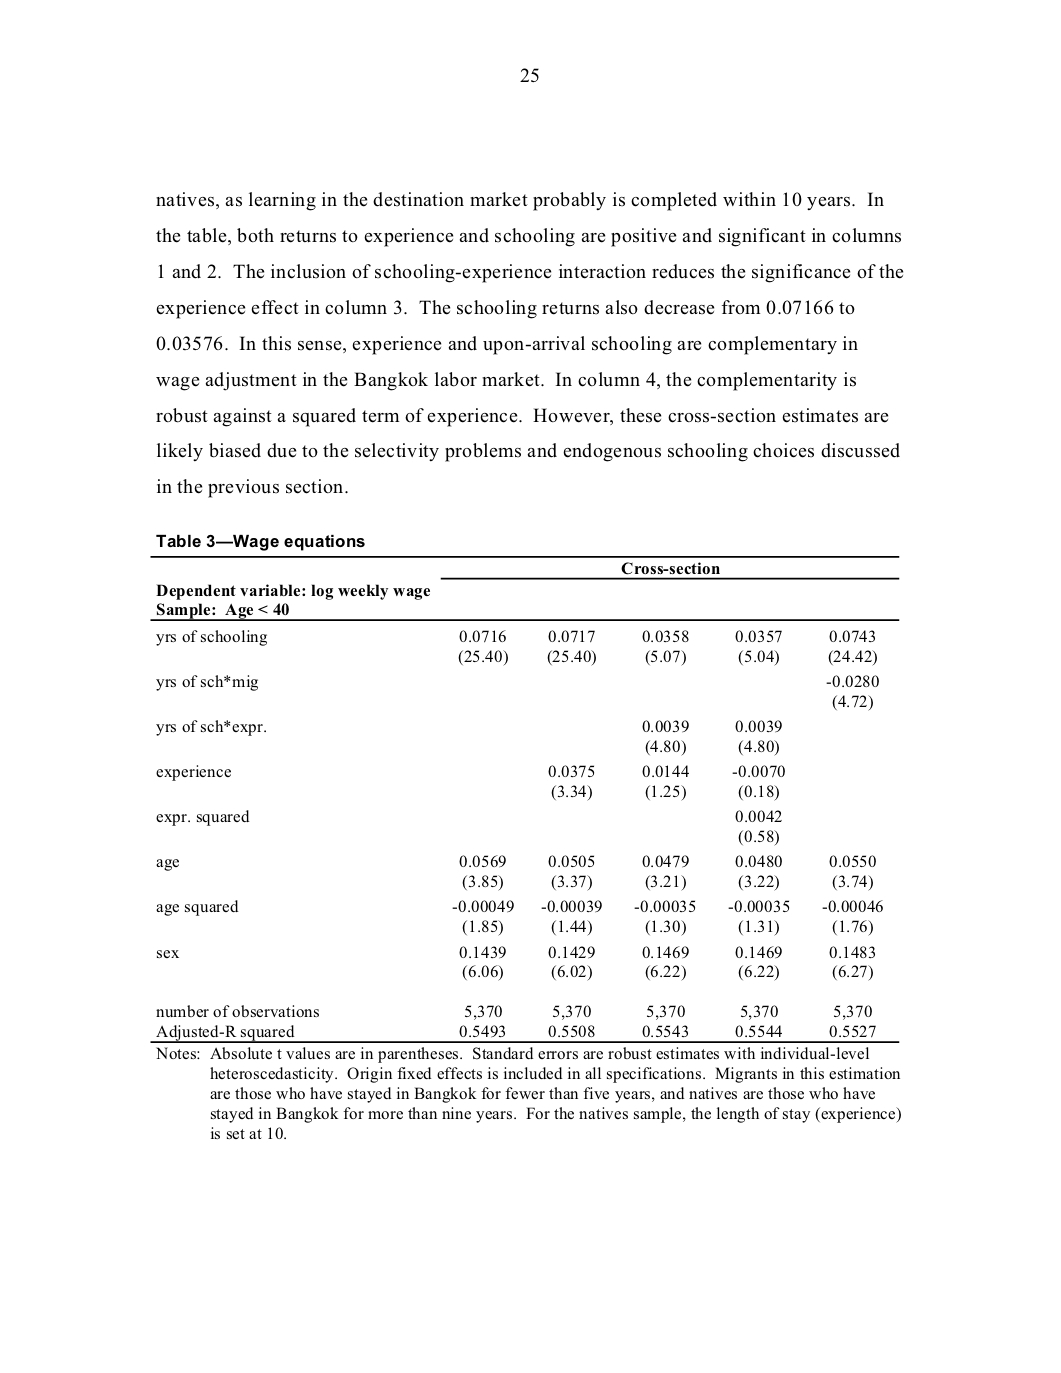Table: (150, 556, 899, 1042)
